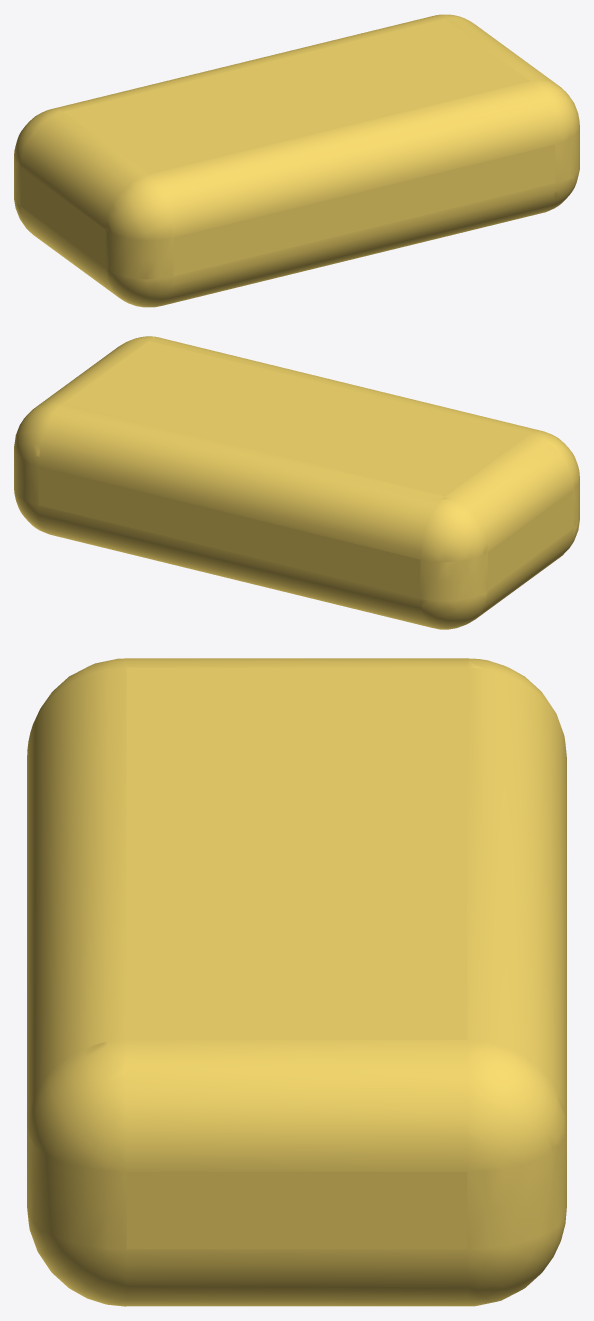
Rendered from tankSet1_stainlessSteel_2.dae.
3 renders of one model, top to bottom at view 1: azimuth 30°, elevation 25°; view 2: azimuth 150°, elevation 25°; view 3: azimuth 270°, elevation 25°, orthographic. The views are drawn at different scales.
Parts seen in each view (by area): view 1: tankSet1_stainlessSteel_2; view 2: tankSet1_stainlessSteel_2; view 3: tankSet1_stainlessSteel_2.
Part boxes in pixels (x1,y1,x2,y2): tankSet1_stainlessSteel_2: [14, 14, 579, 307]; tankSet1_stainlessSteel_2: [14, 336, 579, 629]; tankSet1_stainlessSteel_2: [27, 658, 566, 1306].
Bounding box in the file's own units: 3.8 × 1.9 × 1.
